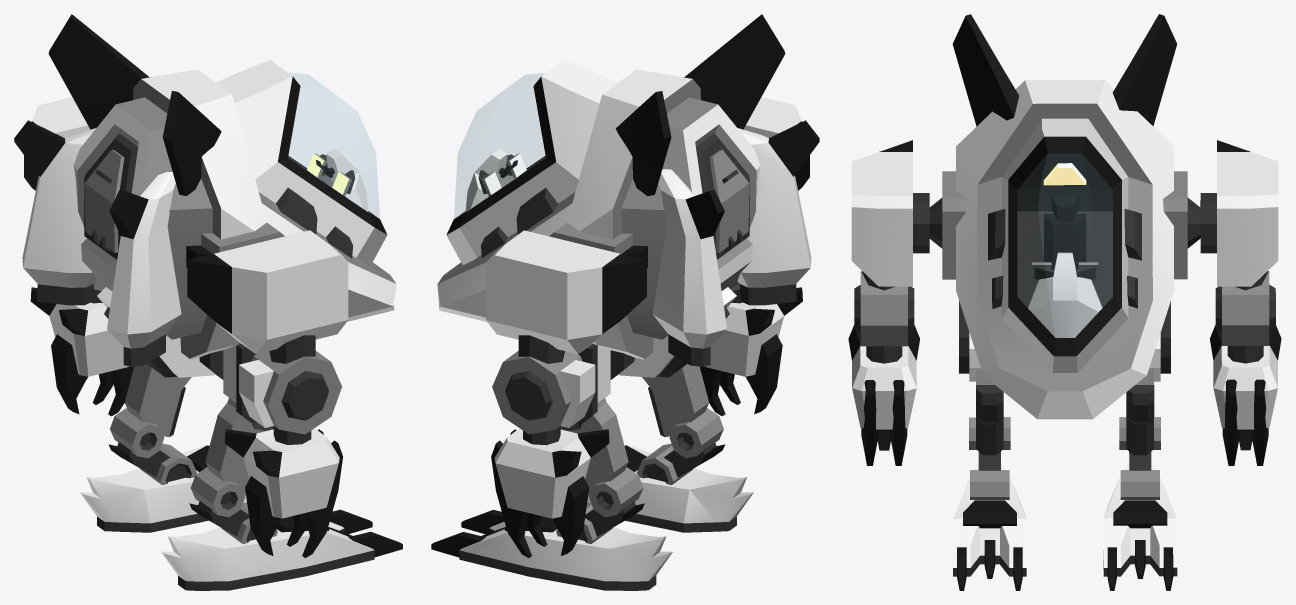
The model's file is beta.glb.
3 views of the same model, side by side, from view 1: azimuth 30°, elevation 25°; view 2: azimuth 150°, elevation 25°; view 3: azimuth 270°, elevation 25° (orthographic). The views are drawn at different scales.
Parts seen in each view (by area): view 1: Cube.001, Cube; view 2: Cube.001, Cube; view 3: Cube.001.
Part boxes in pixels (x1,y1,x2,y2): Cube.001: (14, 14, 402, 590); Cube: (289, 73, 379, 218); Cube.001: (431, 14, 819, 590); Cube: (454, 73, 544, 218); Cube.001: (848, 14, 1281, 590).
Bounding box in the file's own units: 1.69 × 2.57 × 2.13.
